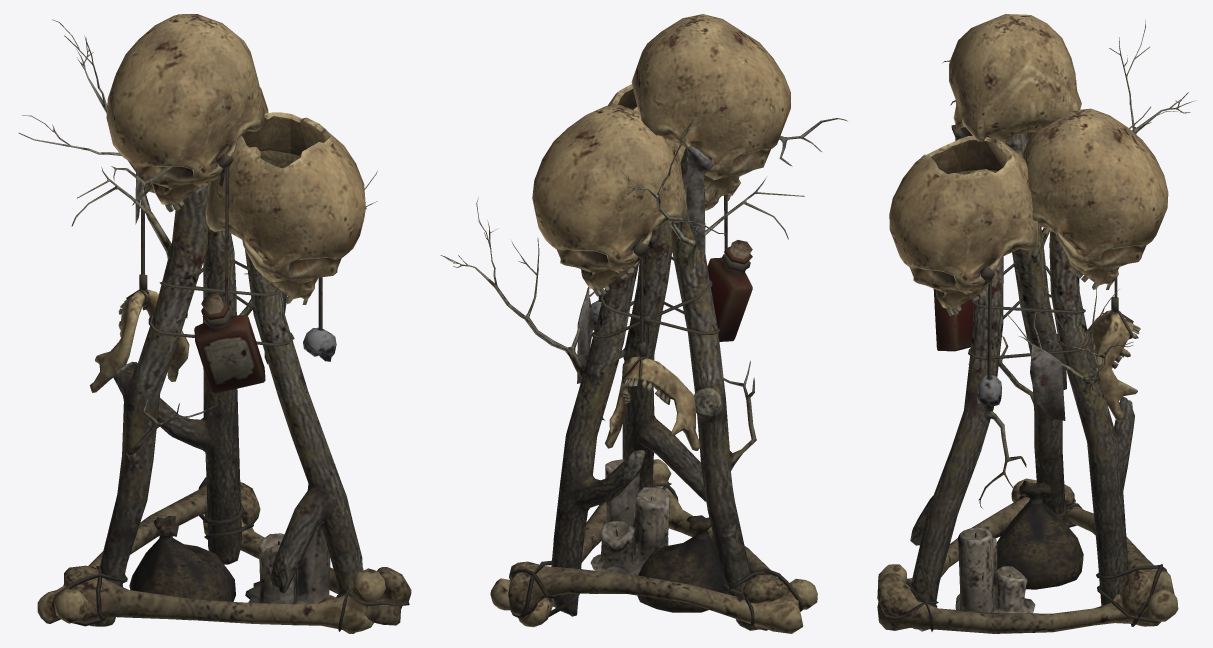
Rendered from Inter_Totem.fbx.
3 views of the same model, side by side, from view 1: azimuth 30°, elevation 25°; view 2: azimuth 150°, elevation 25°; view 3: azimuth 270°, elevation 25° (orthographic). The views are drawn at different scales.
Parts seen in each view (by area): view 1: SM_HexTotem01.mo; view 2: SM_HexTotem01.mo; view 3: SM_HexTotem01.mo.
Part boxes in pixels (bbox=[...]): SM_HexTotem01.mo: bbox=[18, 14, 411, 633]; SM_HexTotem01.mo: bbox=[440, 14, 847, 633]; SM_HexTotem01.mo: bbox=[877, 14, 1195, 633].
Size of the model in its own units: 48.71 by 82.58 by 42.59.
